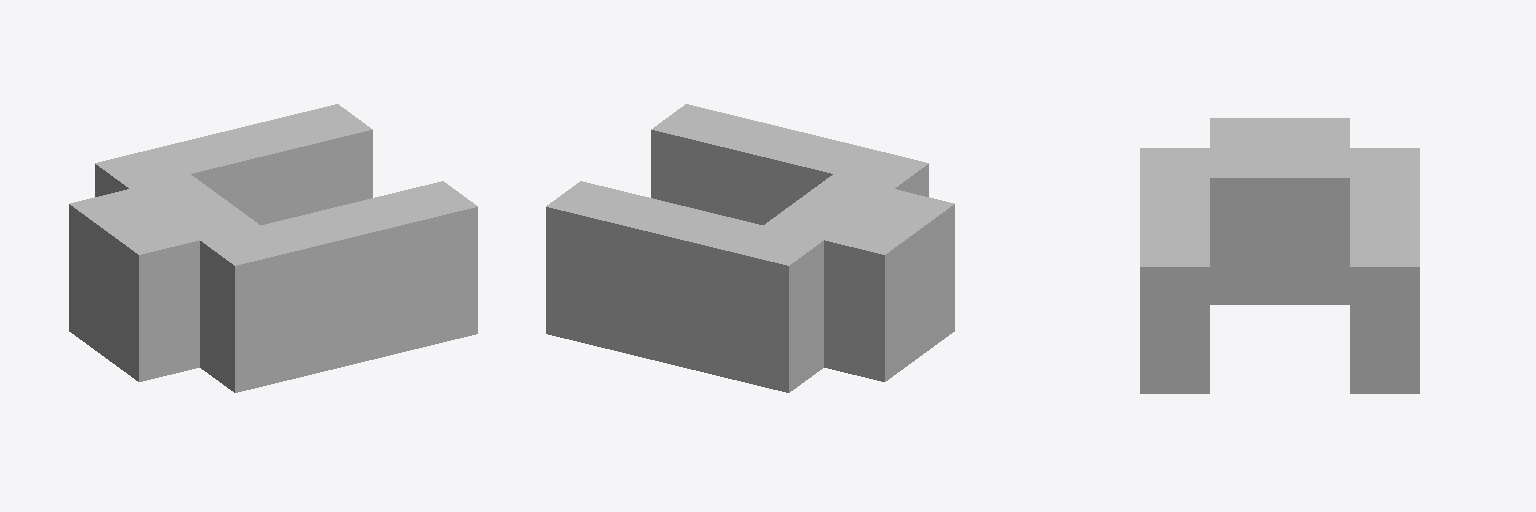
Rendered from Droid_Hand.obj.
3 views of the same model, side by side, from view 1: azimuth 30°, elevation 25°; view 2: azimuth 150°, elevation 25°; view 3: azimuth 270°, elevation 25° (orthographic).
Visible parts, largest first — view 1: object 1; view 2: object 1; view 3: object 1.
Part boxes in pixels (x1,y1,x2,y2): object 1: (69,104,477,392); object 1: (546,104,954,392); object 1: (1140,118,1419,393).
Size of the model in its own units: 0.5 by 0.2 by 0.4.